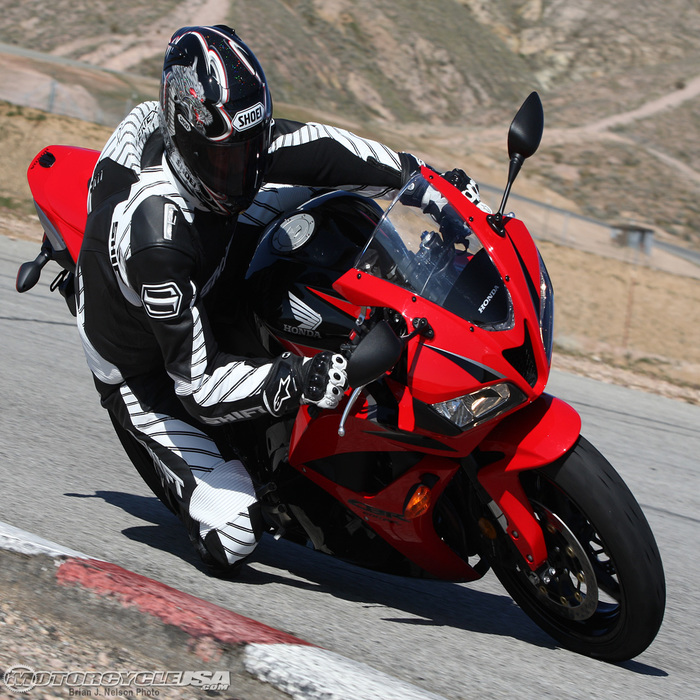h: (161, 18, 274, 223)
